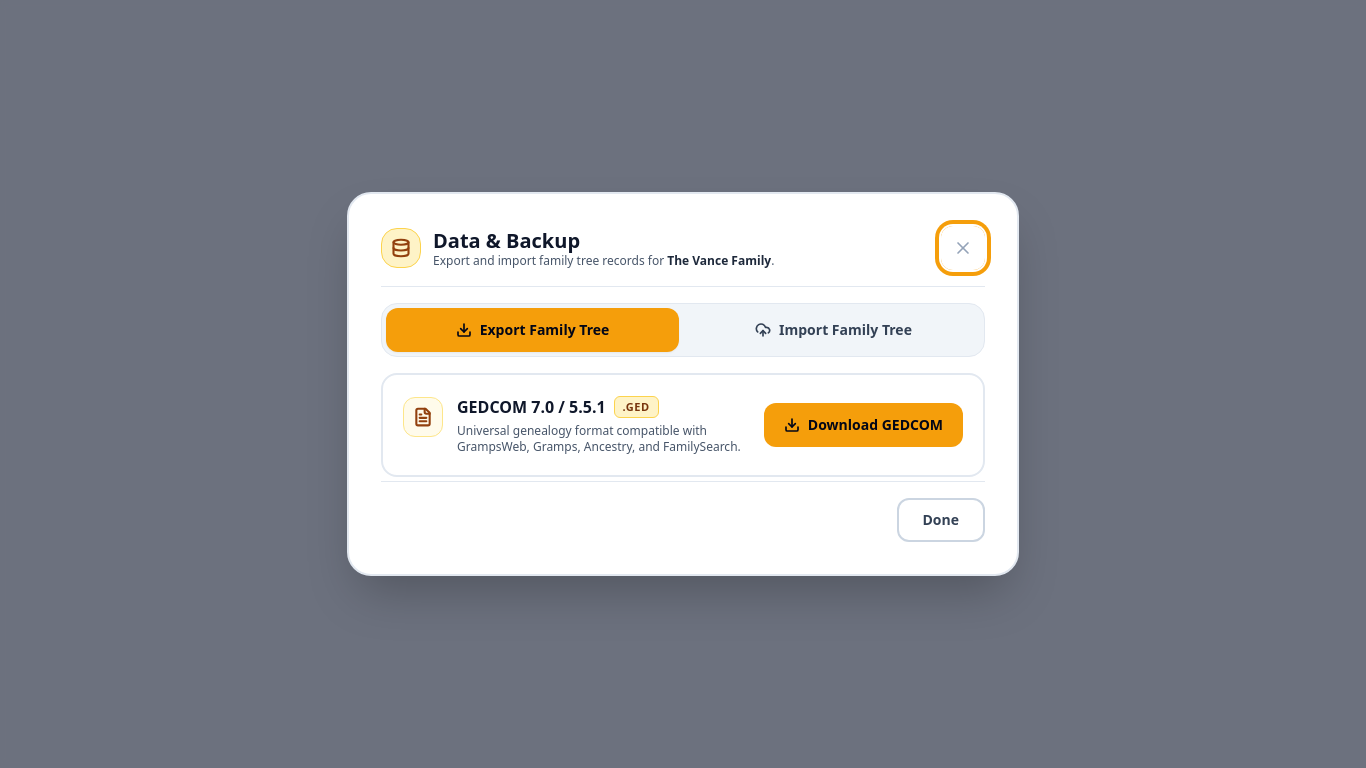
it: DataBackupModal › allows tab switching between Export and Import
The image size is (1366, 768).
Click the tab "Import Family Tree": (834, 330) [687,308,980,352]
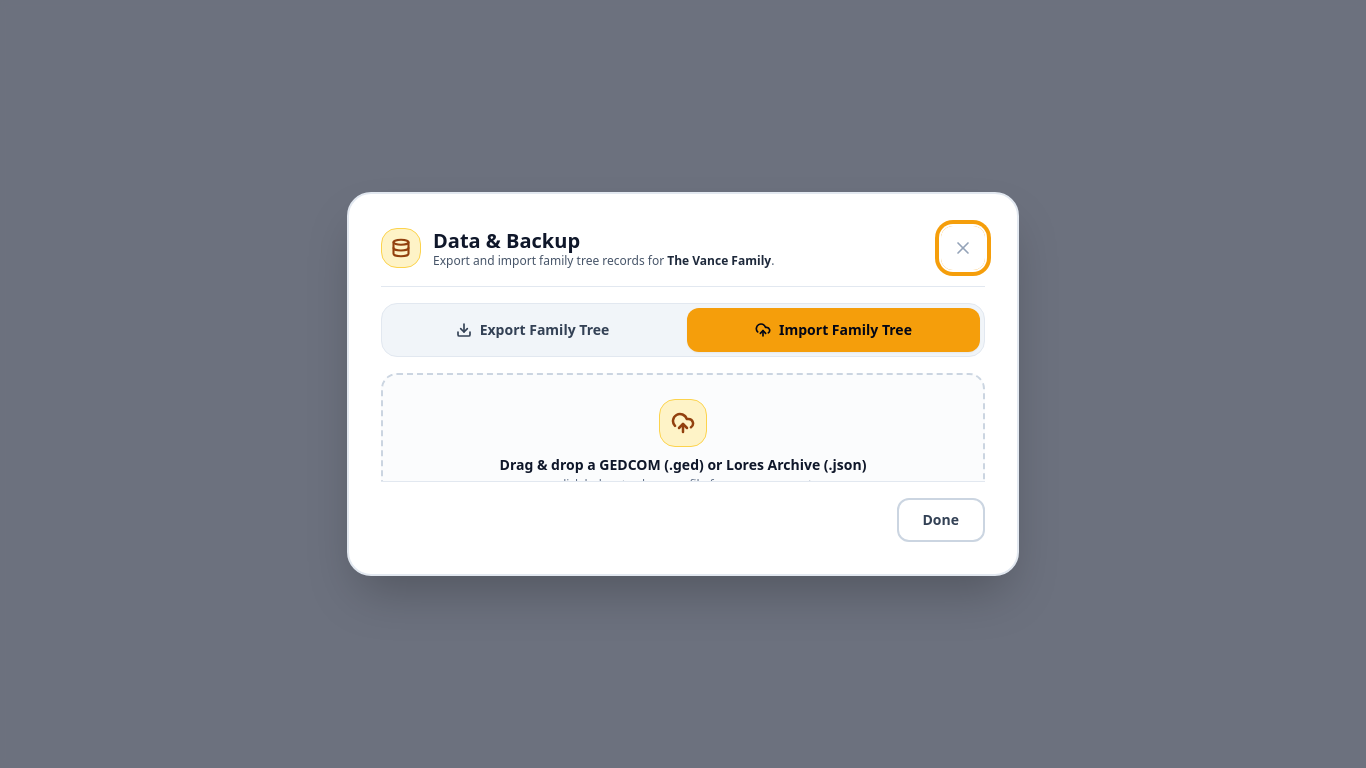
Now the text "Drag & drop a GEDCOM (.ged) or Lores Archive (.json)" is shown, box [500,455,866,475]
Click the tab "Export Family Tree": (532, 330) [386,308,679,352]
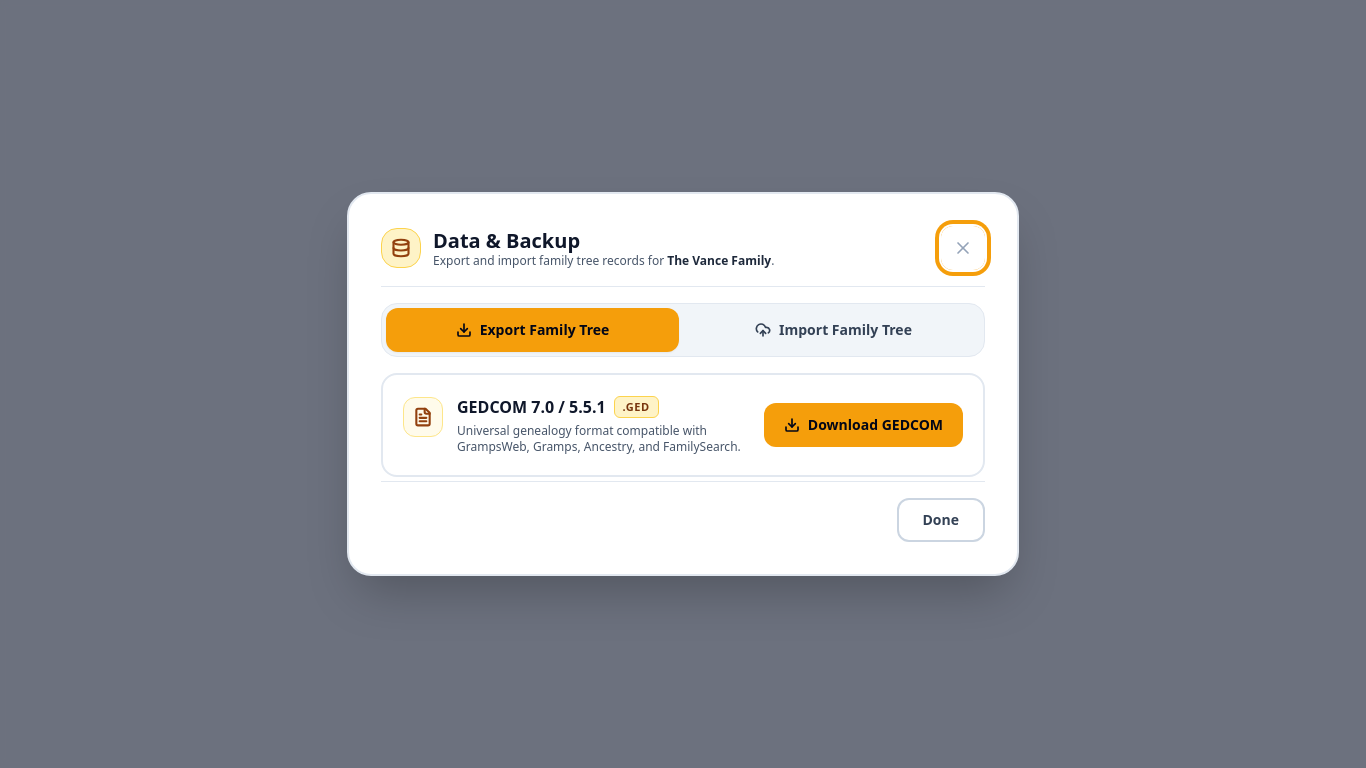
Now the text "Universal genealogy format compatible with GrampsWeb" is shown, box [457,422,741,455]
